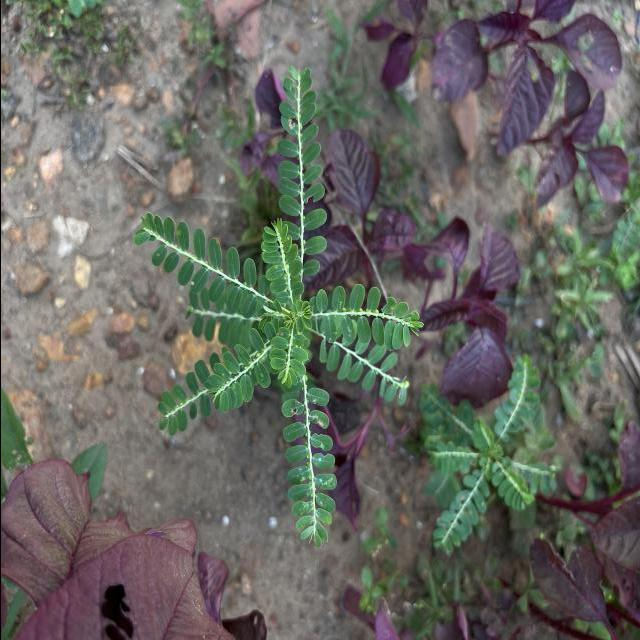Phyllanthus niruri: (130, 210, 274, 322), (274, 62, 328, 276), (278, 374, 338, 550), (308, 280, 426, 347), (202, 326, 276, 416), (258, 217, 305, 305), (266, 320, 308, 390)
